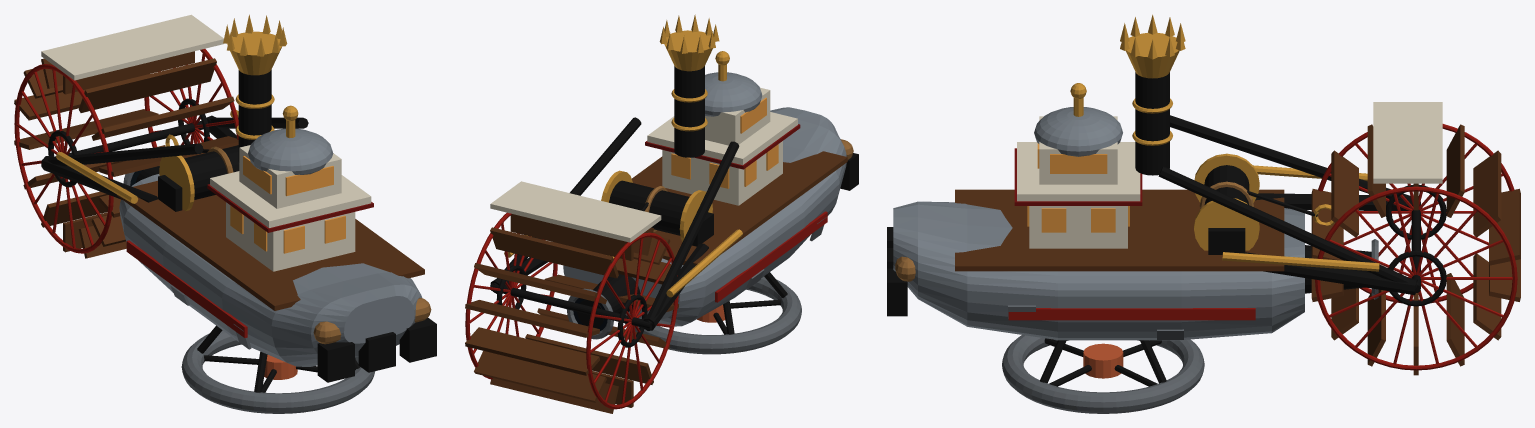
File: tug.obj
3 views of the same model, side by side, from view 1: azimuth 30°, elevation 25°; view 2: azimuth 150°, elevation 25°; view 3: azimuth 270°, elevation 25° (orthographic). The views are drawn at different scales.
Visible parts, largest first — view 1: tug; view 2: tug; view 3: tug.
Part boxes in pixels (<box>): tug: <box>14,14,436,413</box>; tug: <box>465,14,858,413</box>; tug: <box>887,14,1520,413</box>.
Bounding box in the file's own units: 27.65 × 48.52 × 80.
Materials: 1 (1 with a texture image).
